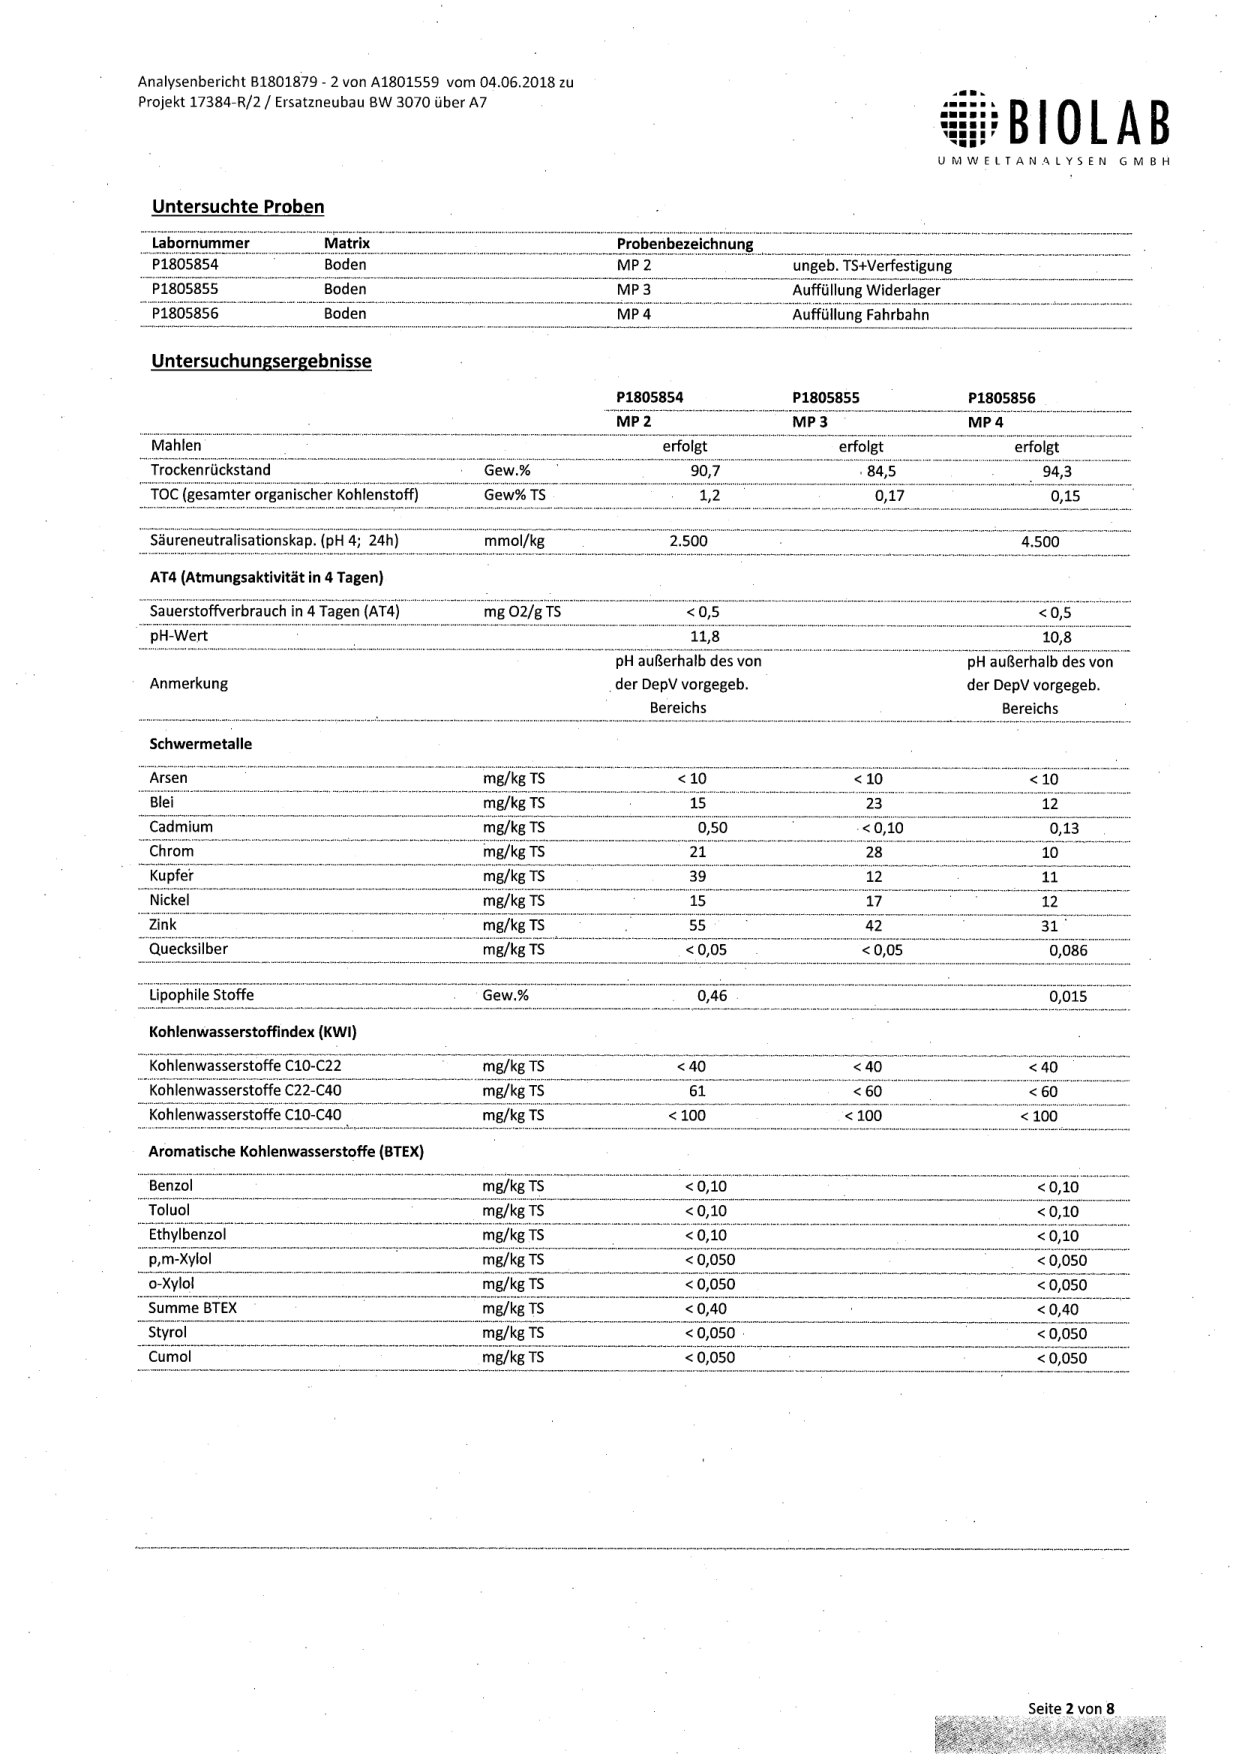table: (132, 385, 1152, 654), (136, 761, 1134, 1017), (136, 1168, 1143, 1385), (130, 224, 1147, 342), (136, 1048, 1147, 1138)
